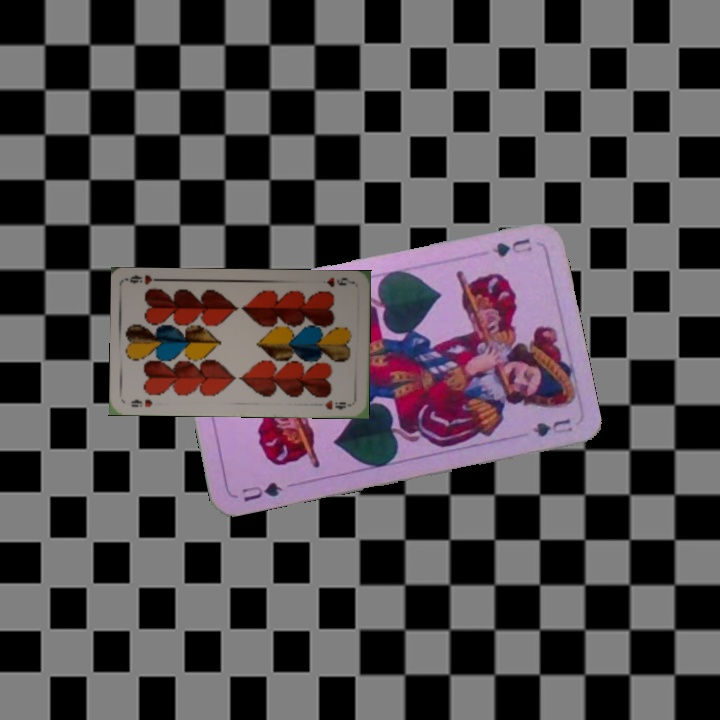GU: (238, 477, 285, 505), (488, 234, 535, 260)
H9: (323, 274, 354, 289), (127, 395, 155, 410)
